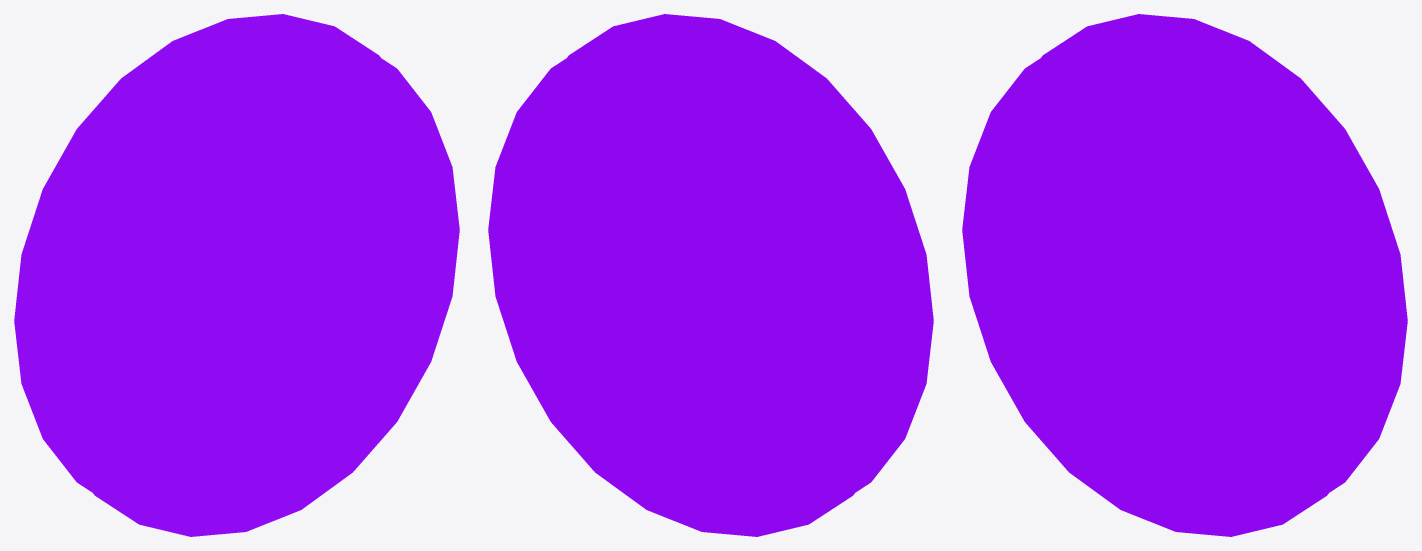
Rendered from OutsideMagicFINAL.fbx.
3 renders of one model, left to right at view 1: azimuth 30°, elevation 25°; view 2: azimuth 150°, elevation 25°; view 3: azimuth 330°, elevation 25°, orthographic.
Parts seen in each view (by area): view 1: OuterMagic; view 2: OuterMagic; view 3: OuterMagic.
Boxes of the visible parts, left/top/right/bottom form: OuterMagic: left=14, top=14, right=459, bottom=536; OuterMagic: left=488, top=14, right=933, bottom=536; OuterMagic: left=962, top=14, right=1407, bottom=536.
Size of the model in its own units: 11.28 by 12.59 by 0.8289.
